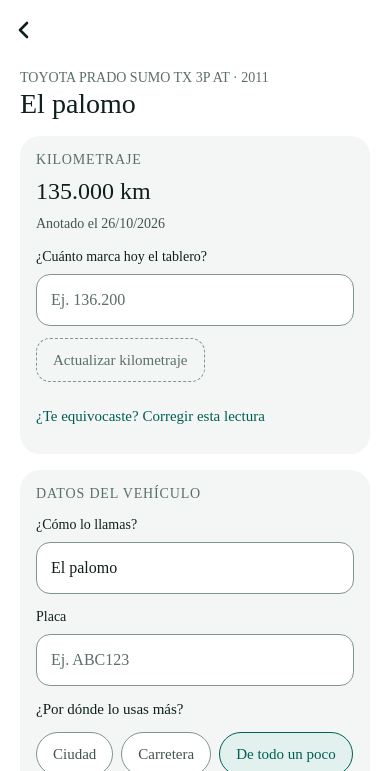
Test case: kilometraje en el detalle del vehículo › corrige la última lectura con un número menor (ADR 0023)
Click the button "¿Te equivocaste? Corregir esta lectura" at [195, 416], box x1=36 y1=394 x2=354 y2=438
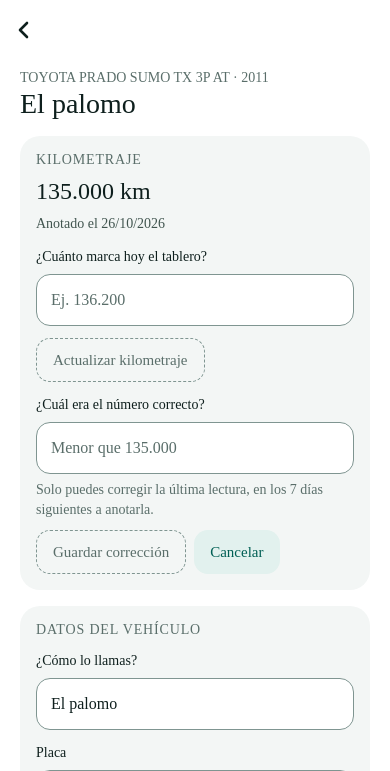
Type "136000" into the field named "¿Cuál era el número correcto?" at [195, 448], box x1=36 y1=422 x2=354 y2=474
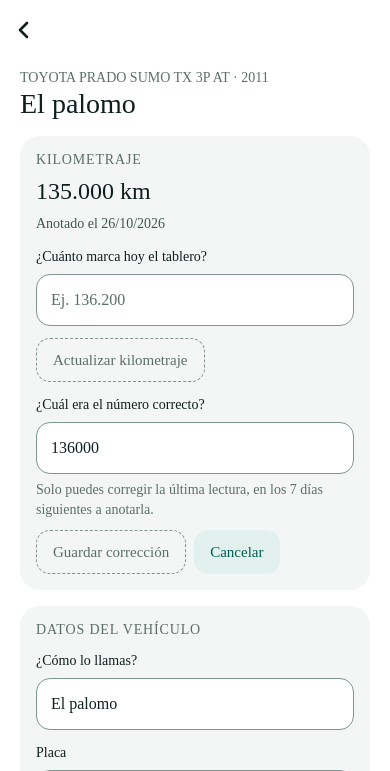
Result: the button "Guardar corrección" is disabled at x1=36 y1=530 x2=186 y2=574
Replace the text in the field named "¿Cuál era el número correcto?" with "134000" at [195, 448], box x1=36 y1=422 x2=354 y2=474
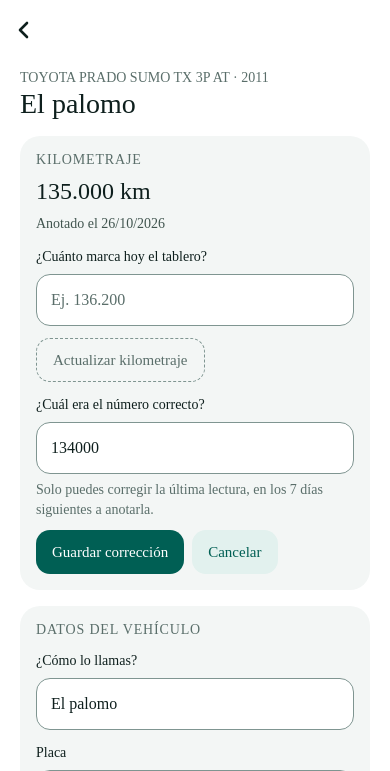
Click the button "Guardar corrección" at [110, 552], box x1=36 y1=530 x2=184 y2=574
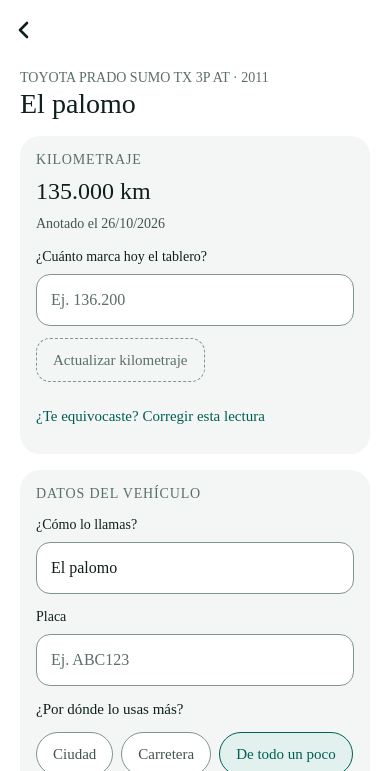
Result: the text labelled "¿Cuál era el número correcto?" is gone
